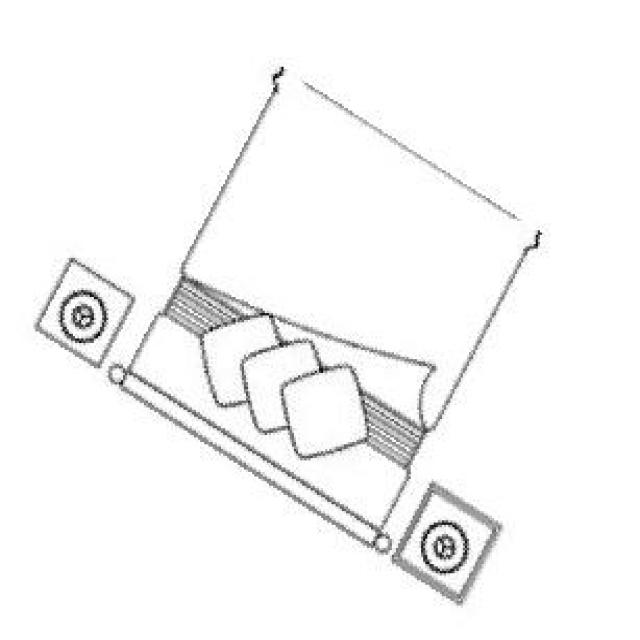bed: (31, 67, 540, 603)
